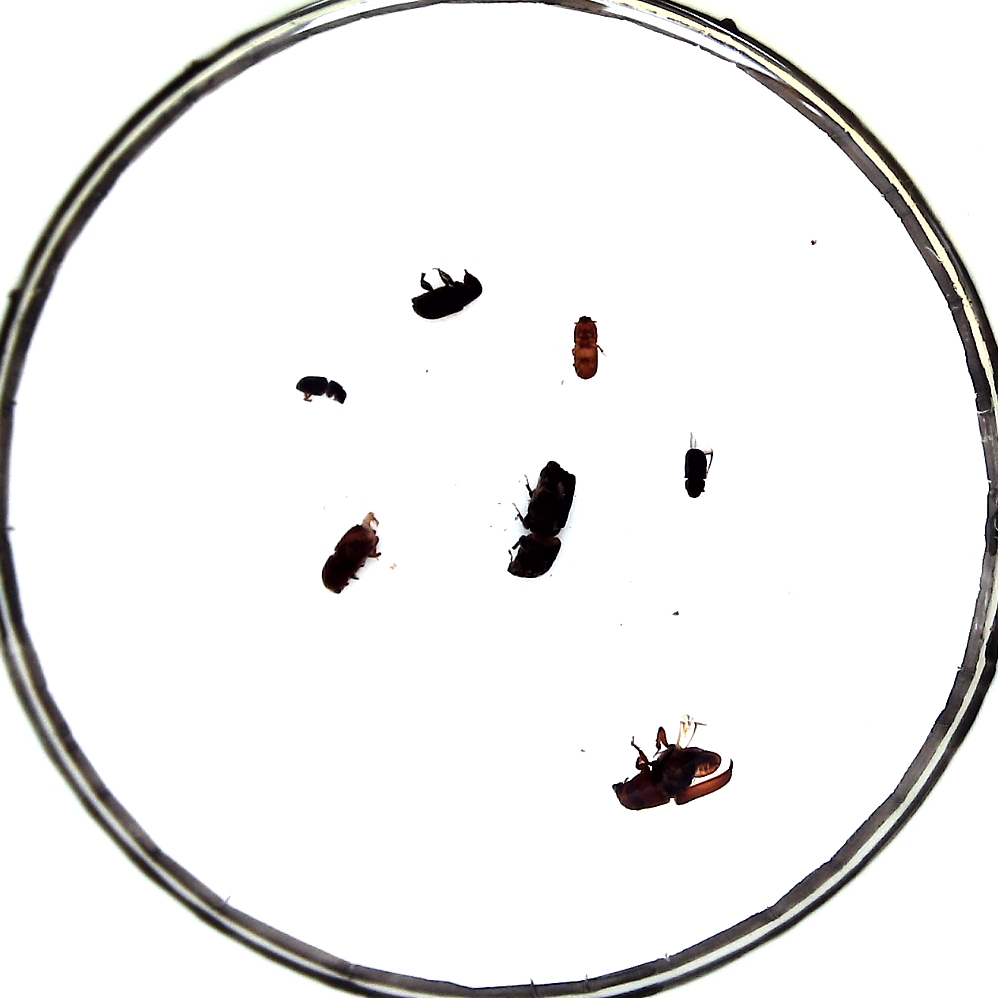Boerner: (512, 460, 575, 582)
Leconte: (613, 739, 733, 813)
Linnaeus: (322, 518, 382, 591)
acuminatus: (570, 315, 604, 378)
armandi: (412, 269, 484, 321)
coleoptera: (296, 372, 345, 409), (681, 448, 710, 500)
